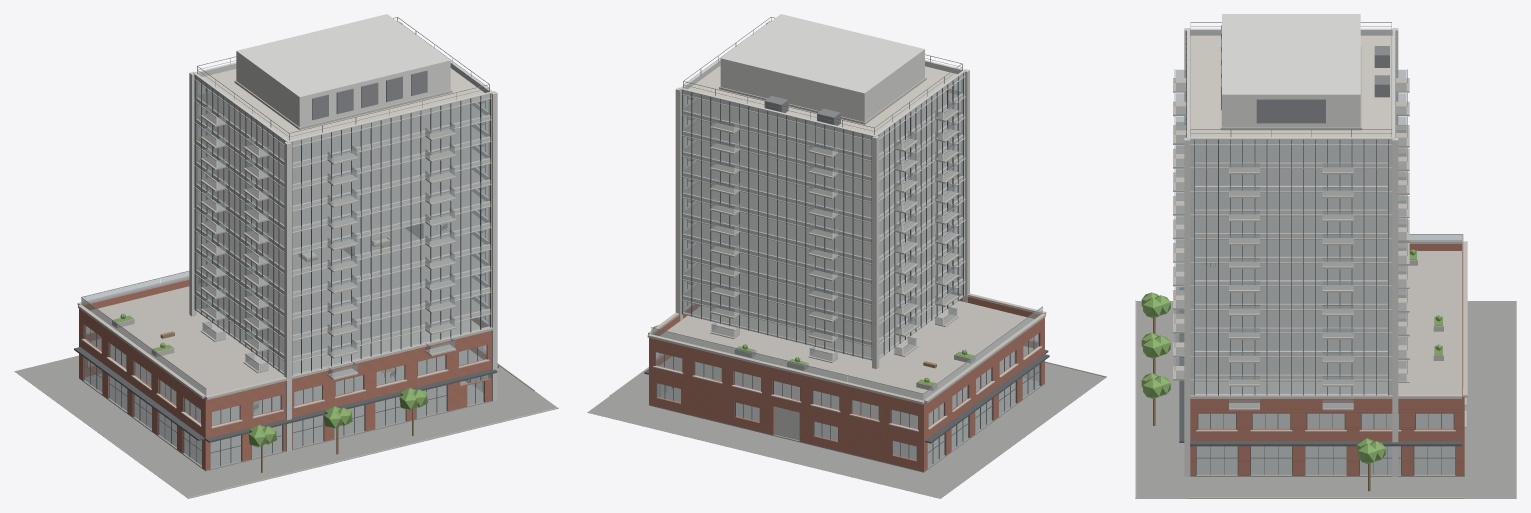
File: clay-brick-podium-condo-tower-clay-v001.glb
3 views of the same model, side by side, from view 1: azimuth 30°, elevation 25°; view 2: azimuth 150°, elevation 25°; view 3: azimuth 270°, elevation 25° (orthographic). The views are drawn at different scales.
Parts seen in each view (by area): view 1: CLAY_GLASS, CLAY_FLOOR, CLAY_FOUNDATION, CLAY_SPANDREL, CLAY_TRIM, CLAY_WALL, CLAY_METAL, CLAY_PALE, CLAY_SAND, CLAY_CONCRETE, CLAY_HARDWARE, CLAY_STONE (+2 smaller); view 2: CLAY_GLASS, CLAY_FLOOR, CLAY_WALL, CLAY_SPANDREL, CLAY_FOUNDATION, CLAY_METAL, CLAY_SAND, CLAY_TRIM, CLAY_PALE, CLAY_CONCRETE, CLAY_STONE, CLAY_HARDWARE (+1 smaller); view 3: CLAY_GLASS, CLAY_FLOOR, CLAY_FOUNDATION, CLAY_SPANDREL, CLAY_METAL, CLAY_CONCRETE, CLAY_WALL, CLAY_SAND, CLAY_PALE, CLAY_TRIM, CLAY_MEMBRANE, CLAY_HARDWARE (+3 smaller).
Boxes of the visible parts, <box> form: CLAY_GLASS: <box>81,82,490,467</box>; CLAY_FLOOR: <box>91,95,485,425</box>; CLAY_FOUNDATION: <box>14,355,556,498</box>; CLAY_SPANDREL: <box>194,63,491,375</box>; CLAY_TRIM: <box>74,75,498,465</box>; CLAY_WALL: <box>79,278,491,470</box>; CLAY_METAL: <box>236,14,450,127</box>; CLAY_PALE: <box>189,21,497,451</box>; CLAY_SAND: <box>90,283,481,395</box>; CLAY_CONCRETE: <box>112,80,484,379</box>; CLAY_HARDWARE: <box>81,17,489,388</box>; CLAY_STONE: <box>77,276,558,498</box>; CLAY_GLASS: <box>651,79,1042,466</box>; CLAY_FLOOR: <box>659,92,1033,428</box>; CLAY_WALL: <box>649,293,1044,471</box>; CLAY_SPANDREL: <box>681,61,964,360</box>; CLAY_FOUNDATION: <box>587,362,1106,498</box>; CLAY_METAL: <box>720,14,924,121</box>; CLAY_SAND: <box>660,300,1034,400</box>; CLAY_TRIM: <box>644,72,1049,463</box>; CLAY_PALE: <box>675,21,969,440</box>; CLAY_CONCRETE: <box>688,77,975,390</box>; CLAY_STONE: <box>609,290,1106,431</box>; CLAY_HARDWARE: <box>651,17,1042,393</box>; CLAY_GLASS: <box>1176,69,1462,474</box>; CLAY_FLOOR: <box>1194,145,1453,428</box>; CLAY_FOUNDATION: <box>1136,301,1516,498</box>; CLAY_SPANDREL: <box>1190,30,1392,395</box>; CLAY_METAL: <box>1222,14,1360,127</box>; CLAY_CONCRETE: <box>1173,46,1443,410</box>; CLAY_WALL: <box>1190,243,1464,475</box>; CLAY_SAND: <box>1194,251,1461,394</box>; CLAY_PALE: <box>1184,28,1398,476</box>; CLAY_TRIM: <box>1179,31,1461,475</box>; CLAY_MEMBRANE: <box>1190,35,1392,137</box>; CLAY_HARDWARE: <box>1174,22,1463,399</box>.
Size of the model in its own units: 54 by 46.8 by 44.
